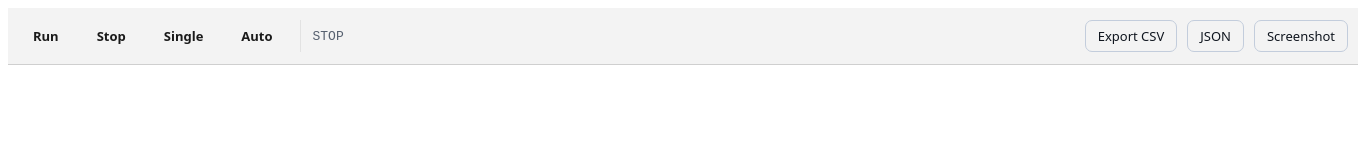
Scenario: ScopeToolbar › surfaces a waveform download failure instead of silently doing nothing
Click the button "JSON": [1216, 36] box [1187,20,1244,52]
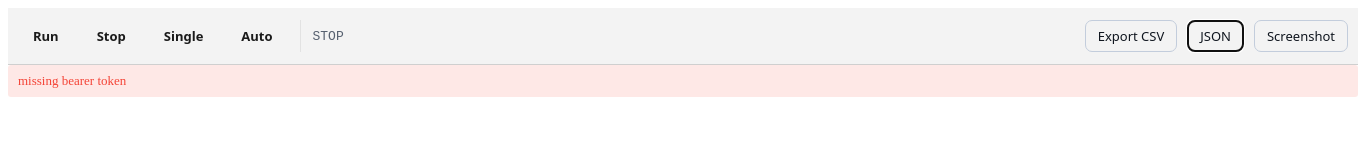
Check: the message reads "missing bearer token", box [18,73,126,88]
